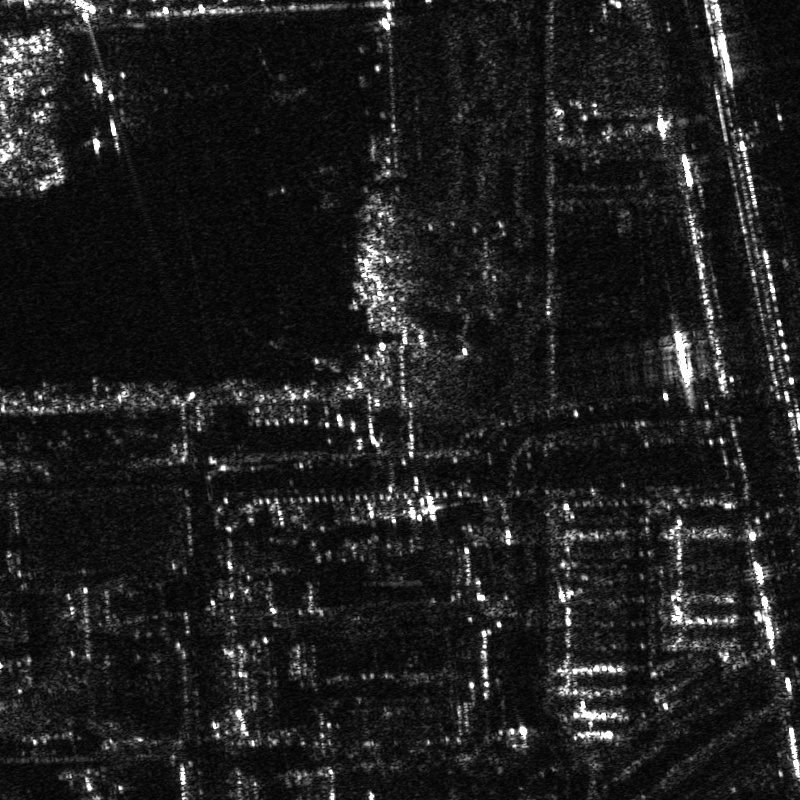Boeing737: (74, 54, 147, 161)
